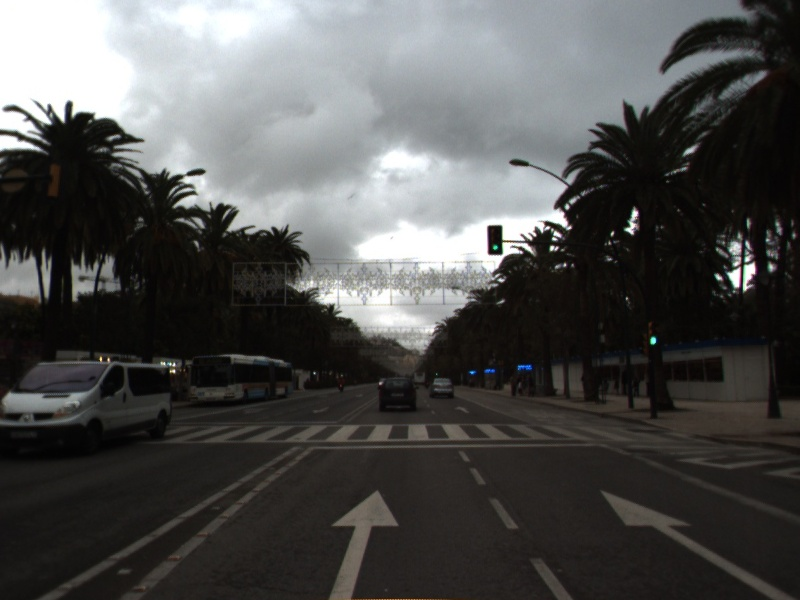STRAIGHT: (597, 487, 797, 600), (323, 485, 402, 600), (453, 404, 471, 415)
